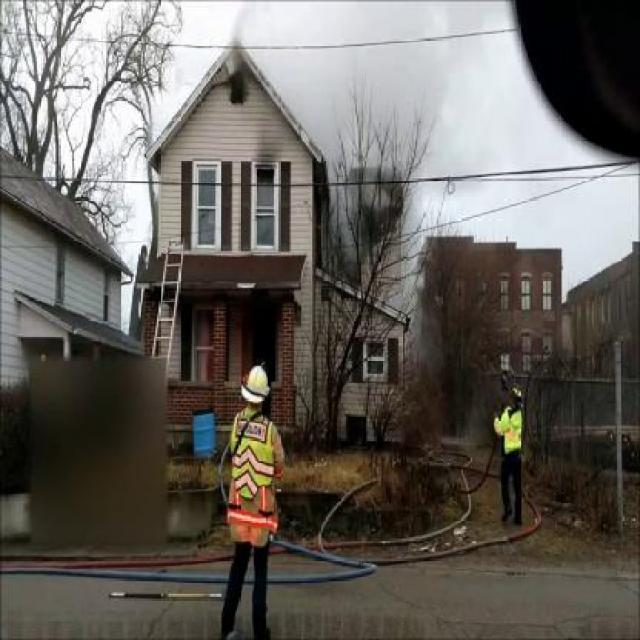smoke: (235, 11, 498, 274), (368, 208, 457, 434)
